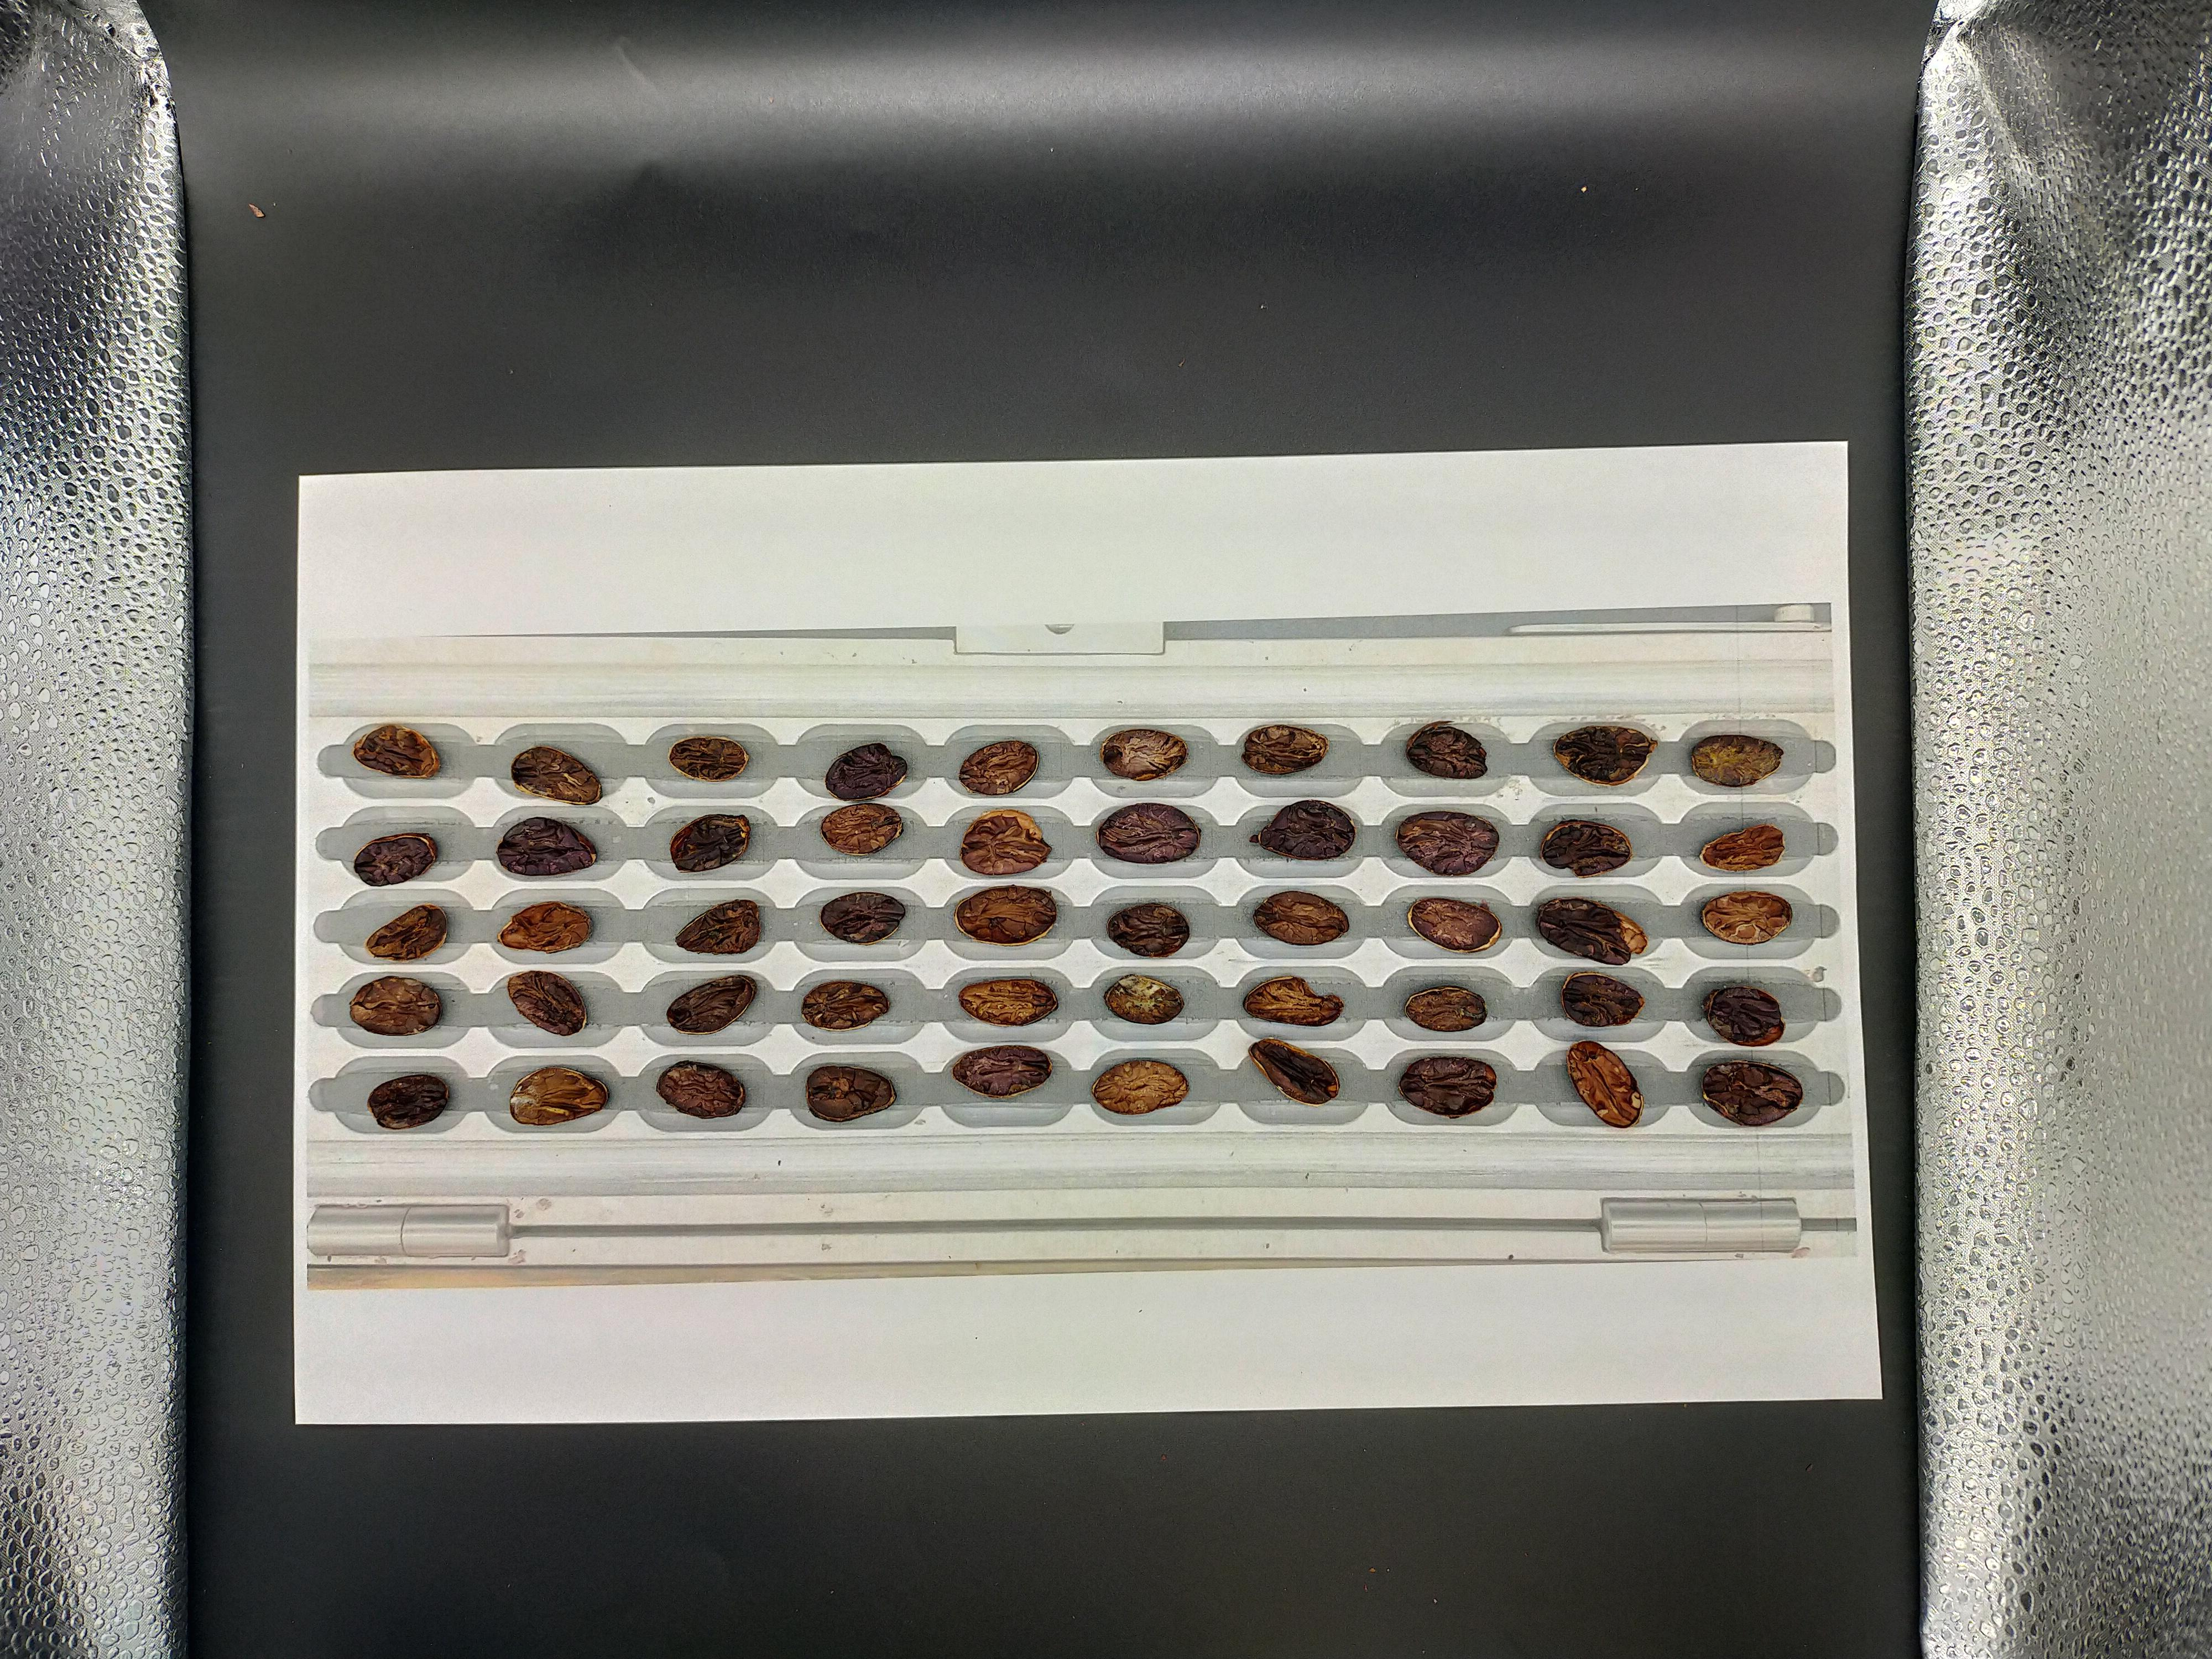Brown - G1: (1881, 530, 1926, 580), (1569, 411, 1622, 451), (1489, 498, 1538, 532), (1949, 418, 1996, 451), (1714, 368, 1763, 399)
Brown - G2: (1712, 495, 1771, 530), (1423, 457, 1474, 493), (1332, 457, 1388, 490), (1568, 498, 1627, 528), (1258, 369, 1310, 403), (1569, 375, 1616, 410), (1951, 457, 2000, 488)
Brown - G3: (1716, 455, 1777, 488), (1339, 378, 1392, 416), (1566, 453, 1625, 486), (1635, 538, 1693, 572), (1336, 493, 1383, 533), (1263, 458, 1313, 495), (1414, 540, 1465, 577), (1256, 498, 1308, 533), (1641, 369, 1693, 403), (1498, 410, 1547, 441)
Brown - G4: (1797, 504, 1844, 532)
Insect-damaged: (1944, 375, 1996, 408)
Mouldy: (1338, 542, 1397, 579), (1642, 497, 1689, 528)
Partly Purple - G1: (1867, 418, 1918, 453), (1878, 497, 1923, 530)
Partly Purple - G2: (1794, 413, 1851, 453), (1794, 540, 1851, 575)
Partly Purple - G3: (1566, 533, 1620, 566)
Partly Purple - G4: (1799, 457, 1851, 491)
Total Purple - G3: (1641, 410, 1700, 446), (1717, 408, 1777, 443), (1500, 378, 1547, 413), (1259, 423, 1308, 457)
Very Dark Brown - G1: (1864, 455, 1926, 497), (1876, 368, 1932, 406), (1951, 502, 2000, 538), (1420, 373, 1467, 406)
Very Dark Brown - G2: (1949, 540, 2006, 580), (1716, 532, 1773, 570), (1332, 416, 1390, 451), (1418, 415, 1470, 450), (1644, 458, 1695, 493), (1797, 366, 1844, 401), (1266, 547, 1313, 580)
Very Dark Brown - G3: (1420, 498, 1472, 533), (1489, 544, 1543, 577), (1496, 455, 1548, 488)
